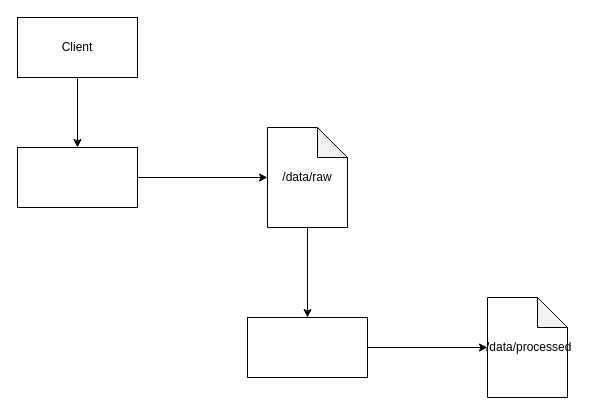
The diagram is 589 pixels wide and 415 high, and some of its shapes have lost their labels. Here are the shapes that lost their labels. From the top down, the centre of each, then its label:
point 77,177: Ingestion Service - FastAPI
point 307,347: Processing Service - Spark
